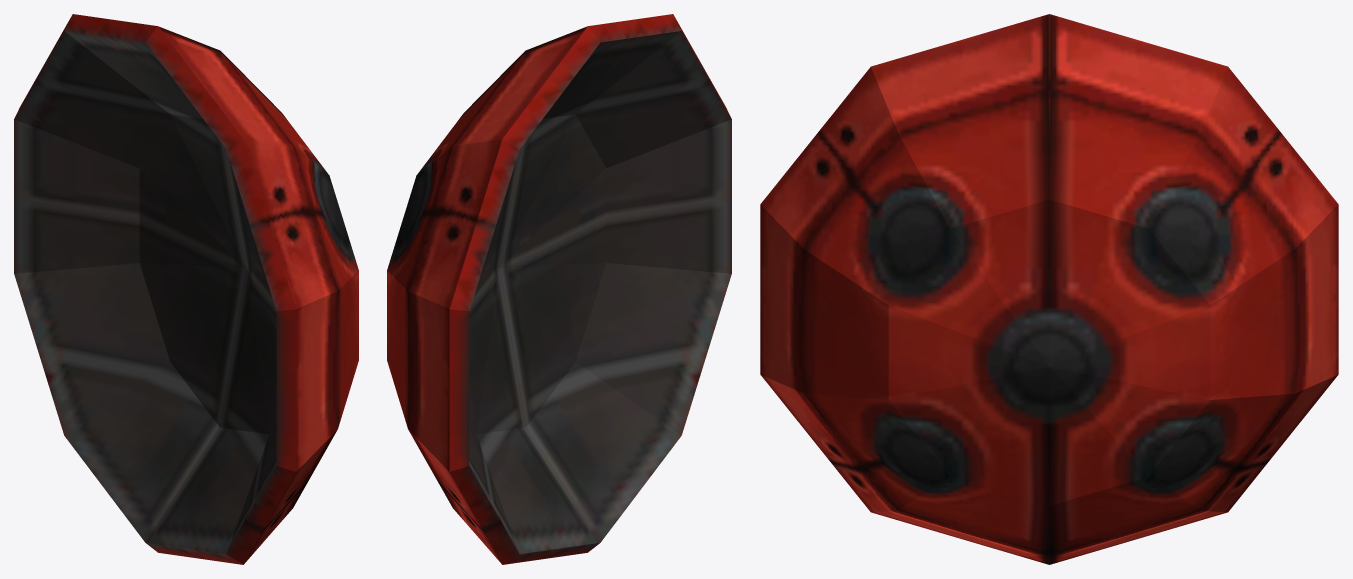
File: Whale_ladybugWeapon_shield.obj
The picture shows the model from 3 angles, left to right: view 1: azimuth 30°, elevation 25°; view 2: azimuth 150°, elevation 25°; view 3: azimuth 270°, elevation 25°; orthographic projection. The views are drawn at different scales.
Parts seen in each view (by area): view 1: Whale_ladybugWeapon_tri [shield]; view 2: Whale_ladybugWeapon_tri [shield]; view 3: Whale_ladybugWeapon_tri [shield].
Boxes of the visible parts, box(x1,y1,x2,y2) form: Whale_ladybugWeapon_tri [shield]: box(14, 14, 358, 564); Whale_ladybugWeapon_tri [shield]: box(387, 14, 731, 564); Whale_ladybugWeapon_tri [shield]: box(760, 14, 1338, 564).
Size of the model in its own units: 0.4234 by 1.29 by 1.23.
1 material, 1 textured.
